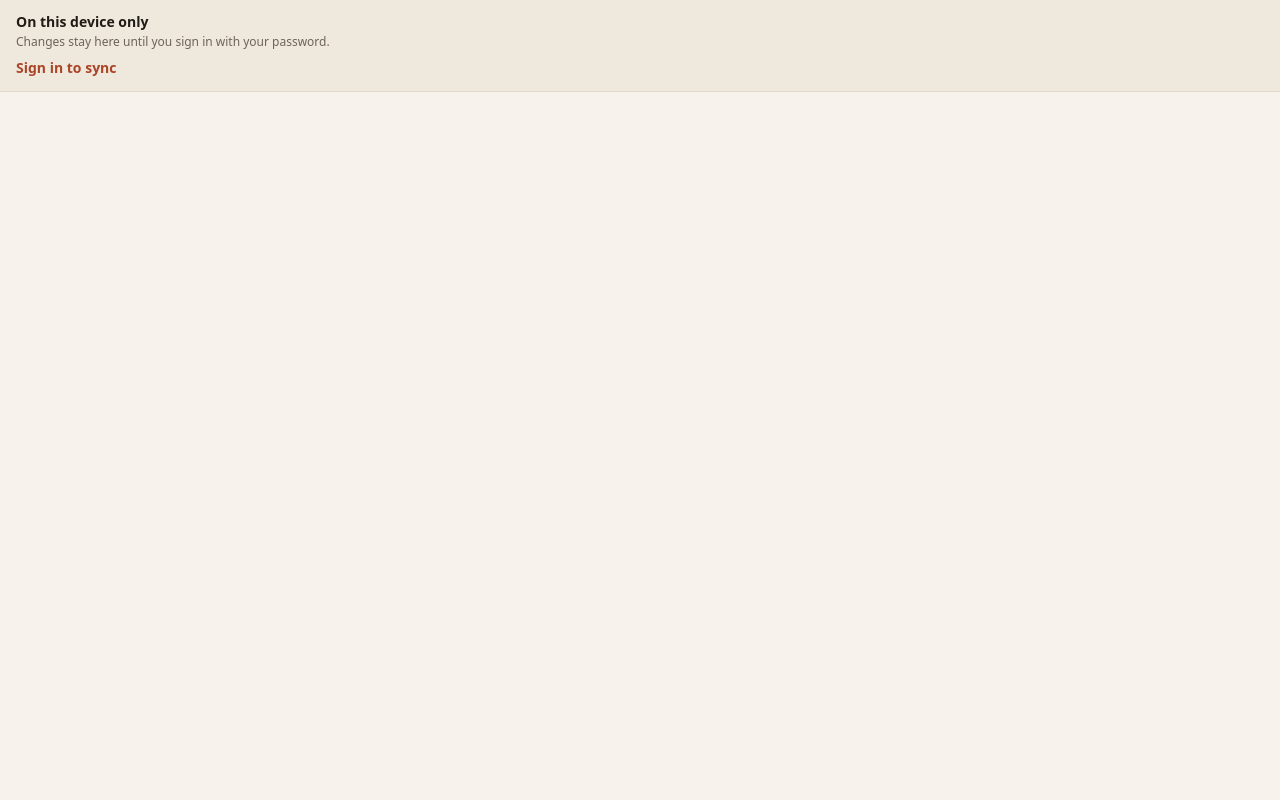
Test: SignInToSync › shows the banner and sign-in overlay when sync needs a session
The image size is (1280, 800).
Check: the text "On this device only" is shown, box [16,12,148,31]
What coordinates should you click on to do the following:
click the button "Sign in to sync"
I would click on:
 (66, 68)
Its box is [16,58,116,78].
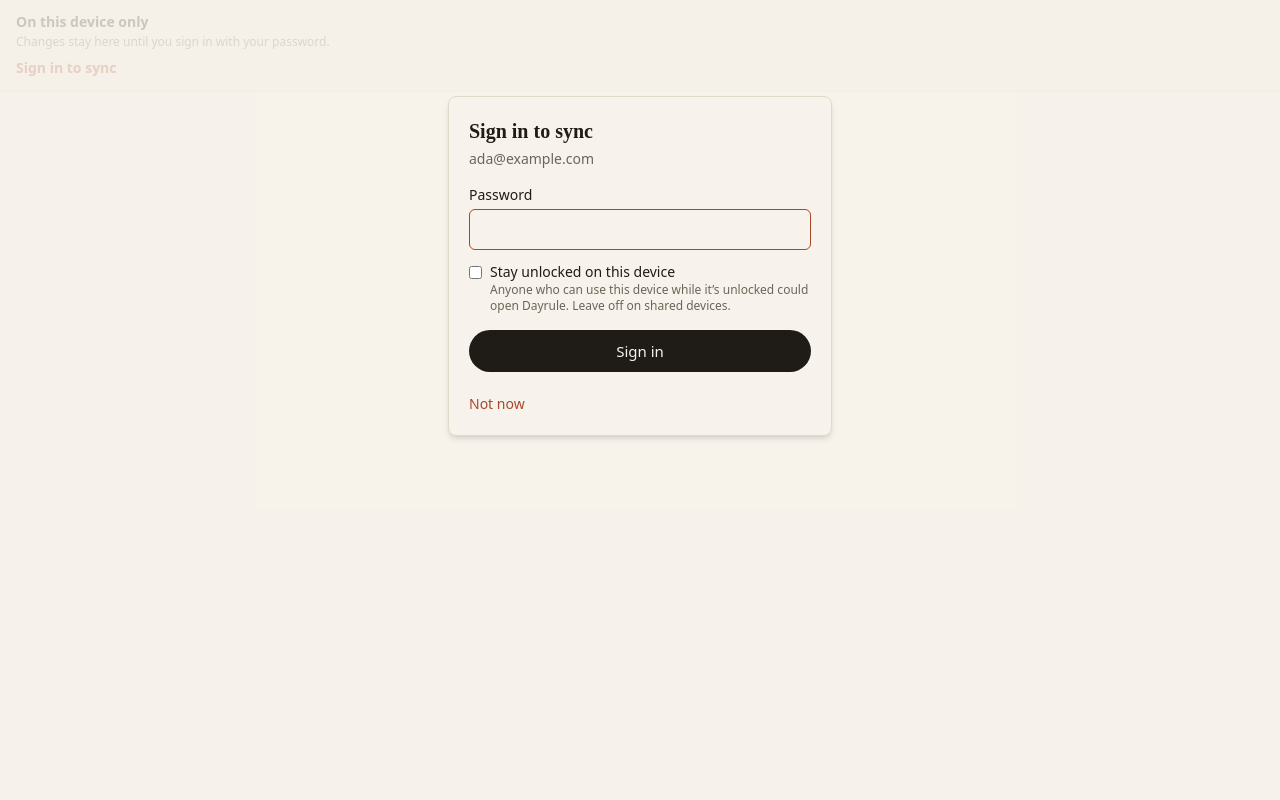
Check: the dialog "Sign in to sync" is shown
Check: the text "ada@example.com" is shown, box [469,149,594,168]
